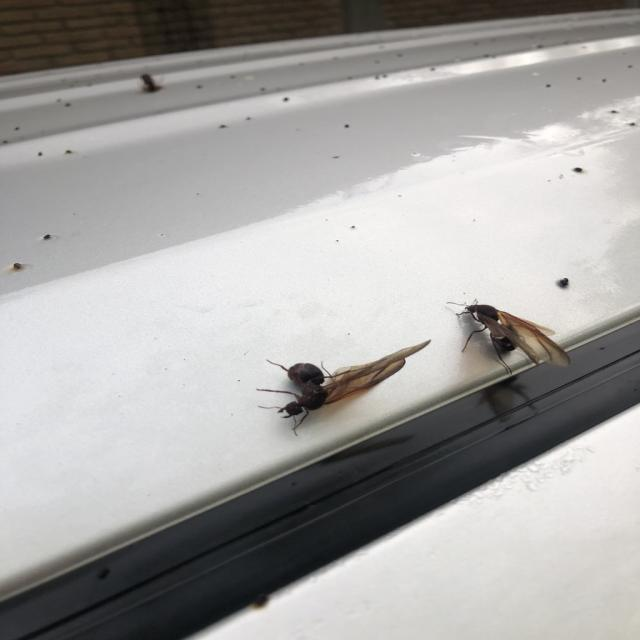Alive-Female-Alate: (256, 339, 432, 436), (446, 298, 571, 375)
